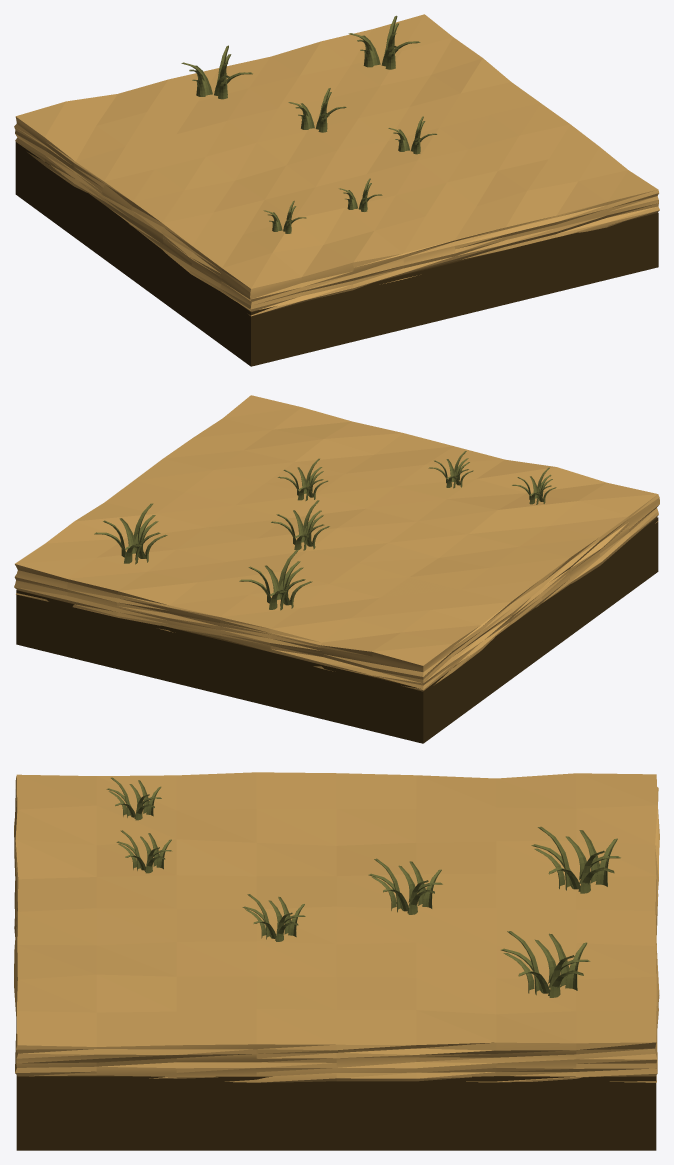
Rendered from FLOOR5.fbx.
3 renders of one model, top to bottom at view 1: azimuth 30°, elevation 25°; view 2: azimuth 150°, elevation 25°; view 3: azimuth 270°, elevation 25°, orthographic. The views are drawn at different scales.
Parts seen in each view (by area): view 1: Cube_2, Cube, Cube_1; view 2: Cube_2, Cube, Cube_1; view 3: Cube_2, Cube, Cube_1.
Part boxes in pixels (box(x1,y1,x2,y2)): Cube_2: box(14, 14, 659, 316); Cube: box(15, 167, 658, 366); Cube_1: box(15, 142, 658, 339); Cube_2: box(14, 395, 659, 691); Cube: box(16, 545, 658, 743); Cube_1: box(16, 517, 658, 716); Cube_2: box(14, 772, 659, 1082); Cube: box(16, 1113, 656, 1150); Cube_1: box(16, 1075, 656, 1113).
Size of the model in its own units: 405 by 114 by 404.
